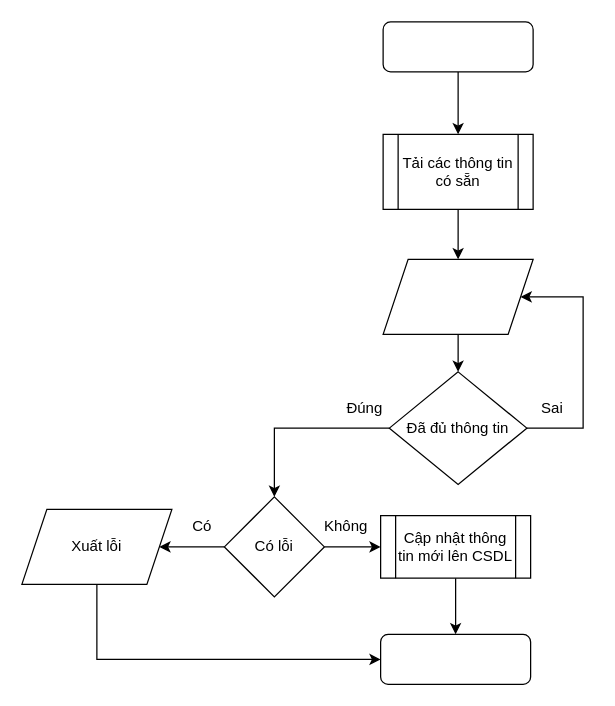
This 615x706 diagram has some shape labels left out. Here are the shapes that lost their labels. From the top down, the centre of each, then its label:
[457,46]: Chỉnh sửa thông tin
[457,296]: Nhập thông tin
[455,658]: Kết thúc chỉnh sửa
